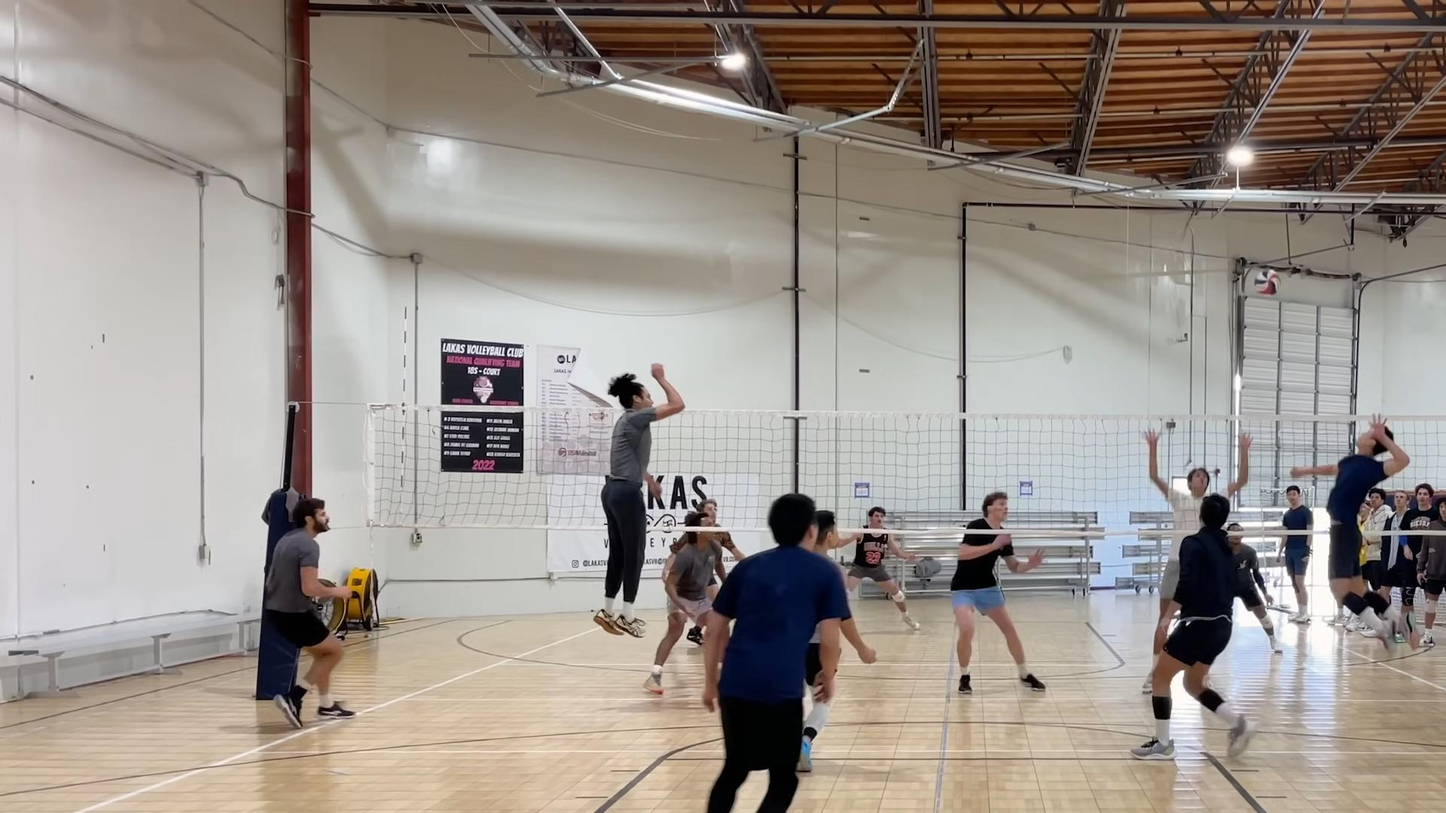Attack: (1293, 417, 1440, 653)
Player: (703, 494, 848, 812), (1131, 495, 1253, 760), (594, 364, 684, 637), (264, 499, 354, 727), (950, 492, 1045, 694), (1145, 431, 1210, 659), (644, 531, 725, 694), (844, 507, 919, 629), (1228, 523, 1283, 653), (797, 626, 831, 771), (713, 532, 745, 562)
ball: (1252, 264, 1280, 293)
